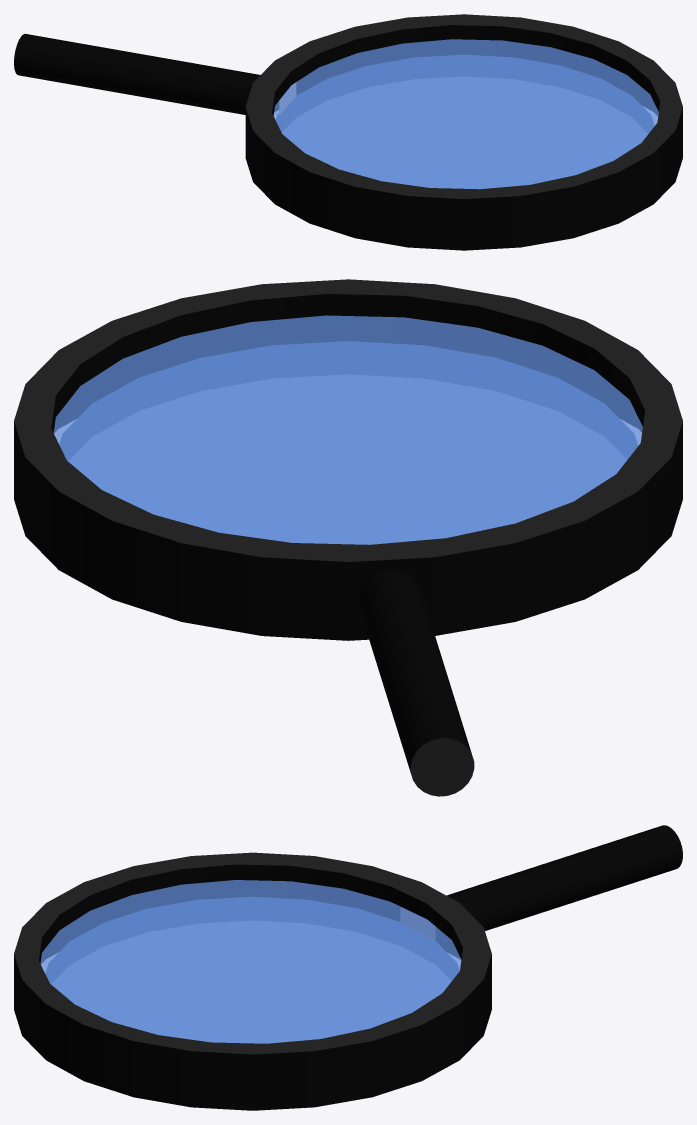
The picture shows the model from 3 angles, top to bottom: view 1: azimuth 30°, elevation 25°; view 2: azimuth 150°, elevation 25°; view 3: azimuth 270°, elevation 25°; orthographic projection. The views are drawn at different scales.
Visible parts, largest first — view 1: SketchUp (×6); view 2: SketchUp (×7); view 3: SketchUp (×7).
Boxes of the visible parts, bbox=[...] form: SketchUp (×6): bbox=[14, 14, 682, 250]; SketchUp (×7): bbox=[14, 279, 682, 796]; SketchUp (×7): bbox=[14, 825, 682, 1110].
Size of the model in its own units: 17.05 by 19.84 by 1.84.
